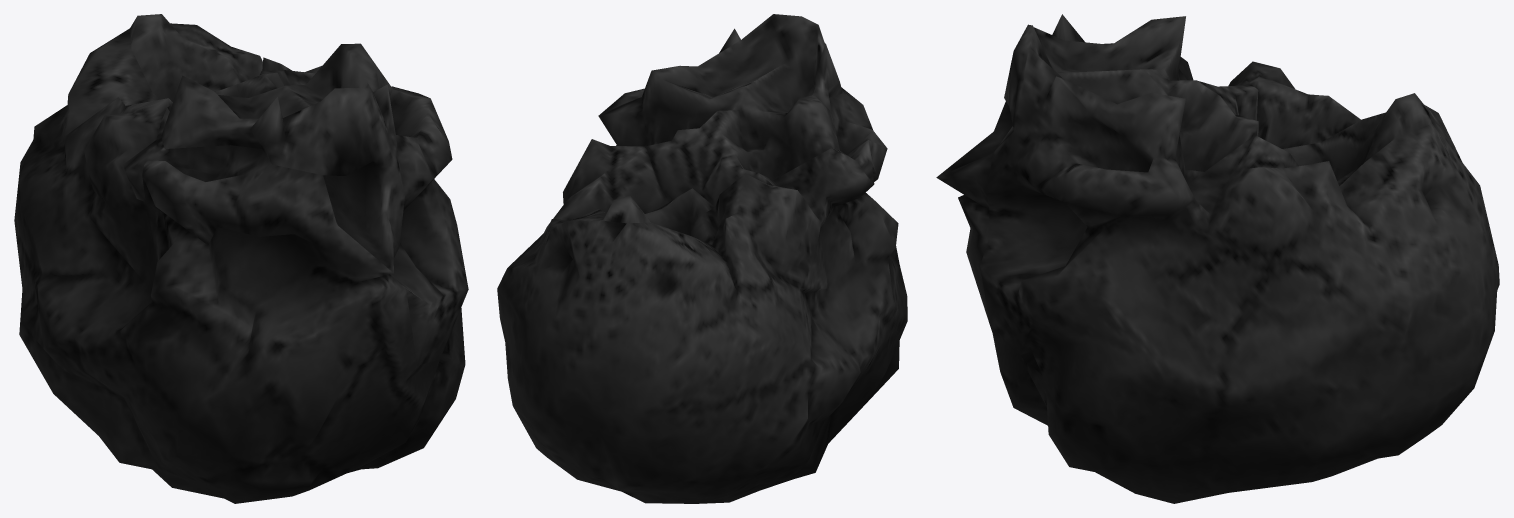
File: statue1.obj
3 views of the same model, side by side, from view 1: azimuth 30°, elevation 25°; view 2: azimuth 150°, elevation 25°; view 3: azimuth 270°, elevation 25° (orthographic). The views are drawn at different scales.
Parts seen in each view (by area): view 1: statue1; view 2: statue1; view 3: statue1.
Boxes of the visible parts, x1,y1,x2,y2 form: statue1: [14, 14, 468, 503]; statue1: [497, 14, 907, 503]; statue1: [936, 14, 1499, 503].
Bounding box in the file's own units: 1.54 × 1.85 × 2.15.
